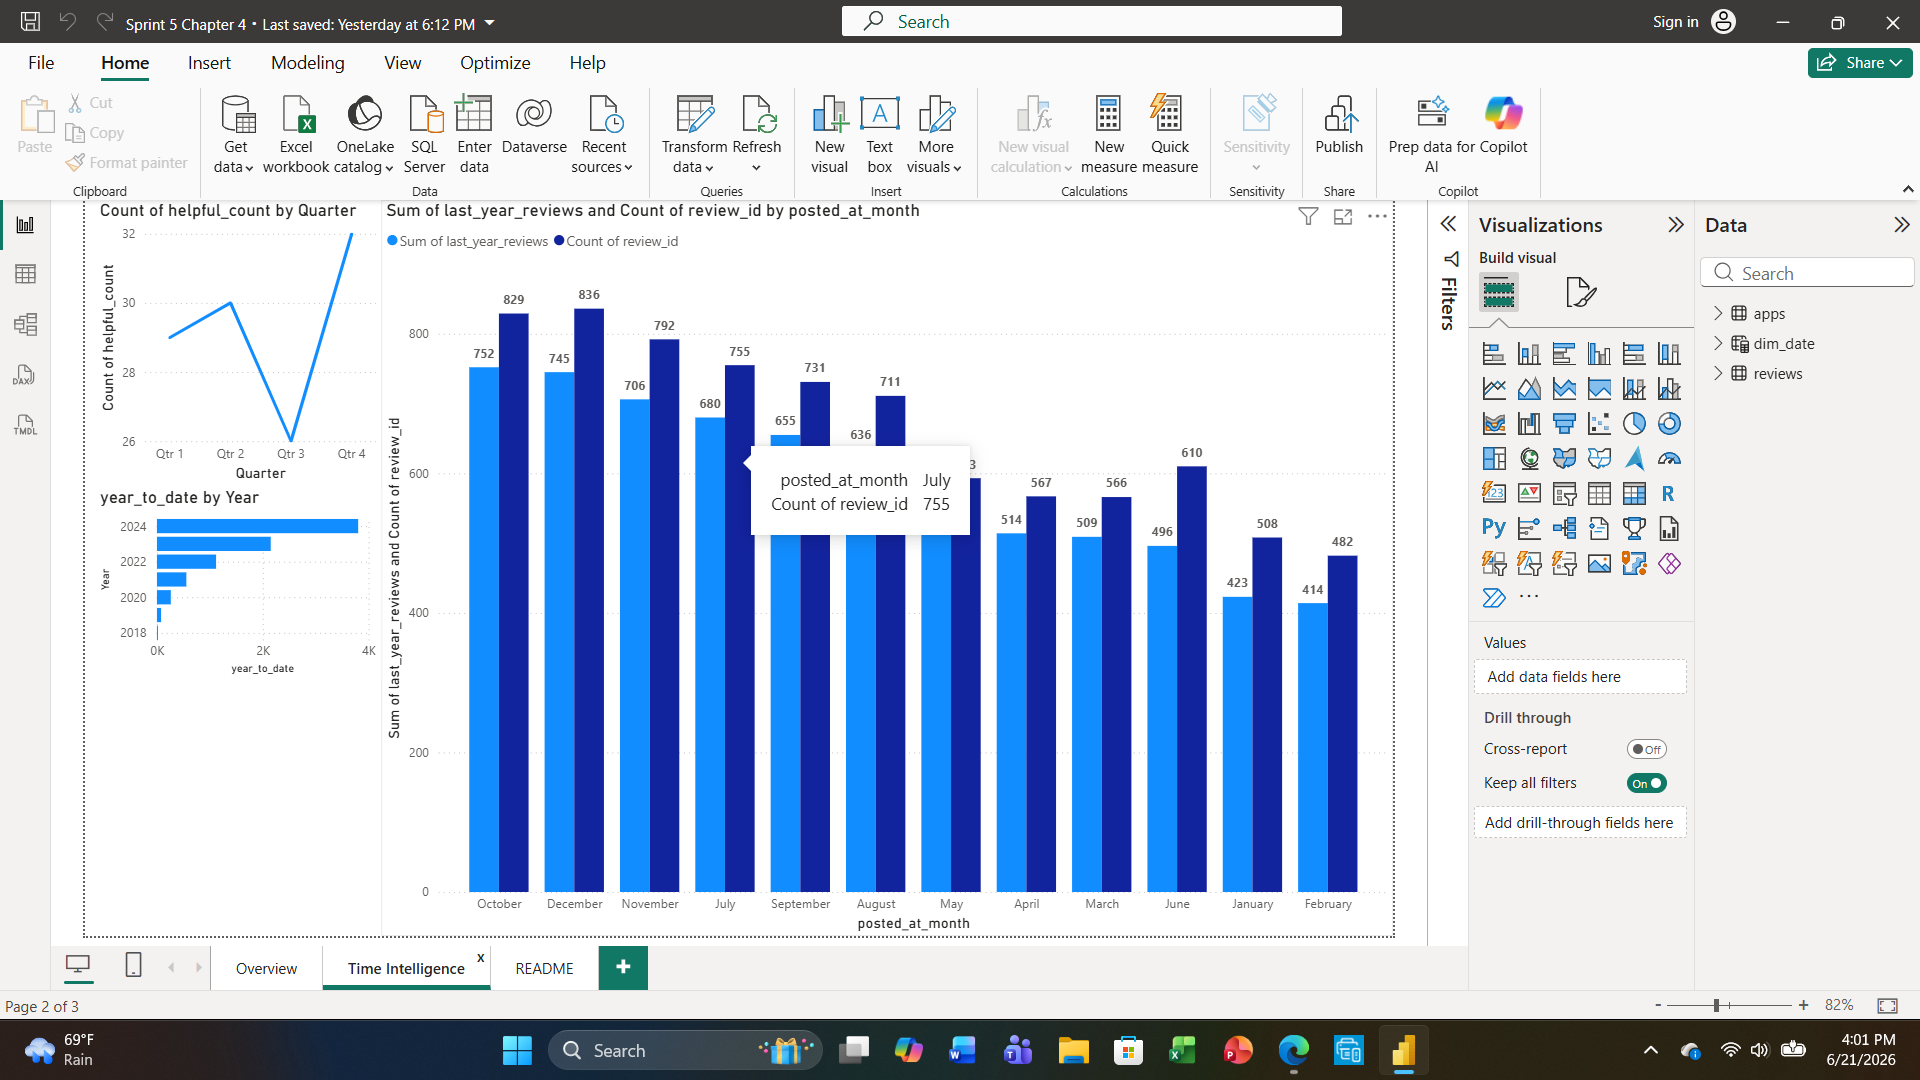

This screenshot's page, from the dashboard's own definition file:
{"tool":"powerbi","page":{"name":"Time Intelligence","canvas":[1280,720],"ordinal":1},"visuals":[{"type":"lineChart","fields":{"Y":["Count(reviews.helpful_count)"],"Category":["dim_date.Date.Variation.Date Hierarchy.Quarter"]},"box":[10,0,280,280],"z":0},{"type":"clusteredColumnChart","fields":{"Y":["Sum(reviews.last_year_reviews)","Count(reviews.review_id)"],"Category":["reviews.posted_at_month"]},"box":[289.7,0,990.6,720.7],"z":1},{"type":"barChart","fields":{"Y":["apps.year_to_date"],"Category":["dim_date.Date.Variation.Date Hierarchy.Year"]},"box":[9.9,279.8,279.8,189.4],"z":2}]}

Visuals, with their boxes on the page's 1280x720 design canvas (x1, y1, x2, y2). These are canvas units, not pixel positions in the 1920x1080 screenshot, which may show the page scaled, cropped or inside an application window:
lineChart - Count(reviews.helpful_count) x dim_date.Date.Variation.Date Hierarchy.Quarter: Rect(10, 0, 290, 280)
clusteredColumnChart - Sum(reviews.last_year_reviews) x Count(reviews.review_id): Rect(290, 0, 1280, 721)
barChart - apps.year_to_date x dim_date.Date.Variation.Date Hierarchy.Year: Rect(10, 280, 290, 469)
